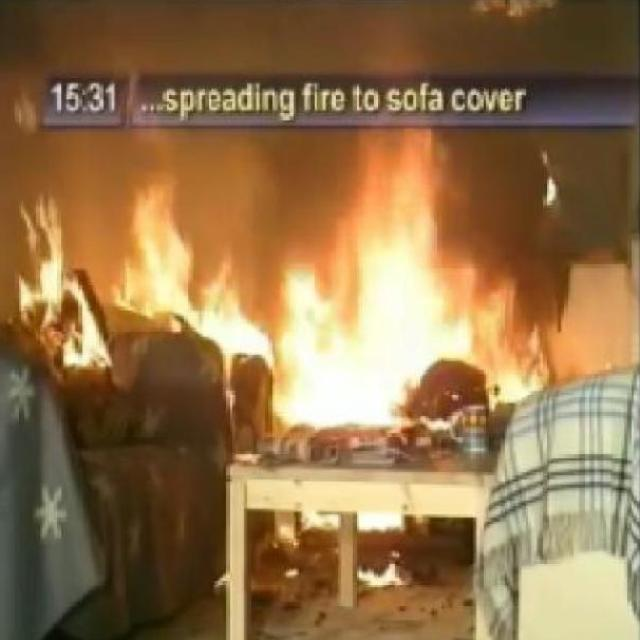smoke: (270, 108, 548, 431), (118, 171, 275, 366), (5, 144, 113, 371), (349, 546, 416, 590)
